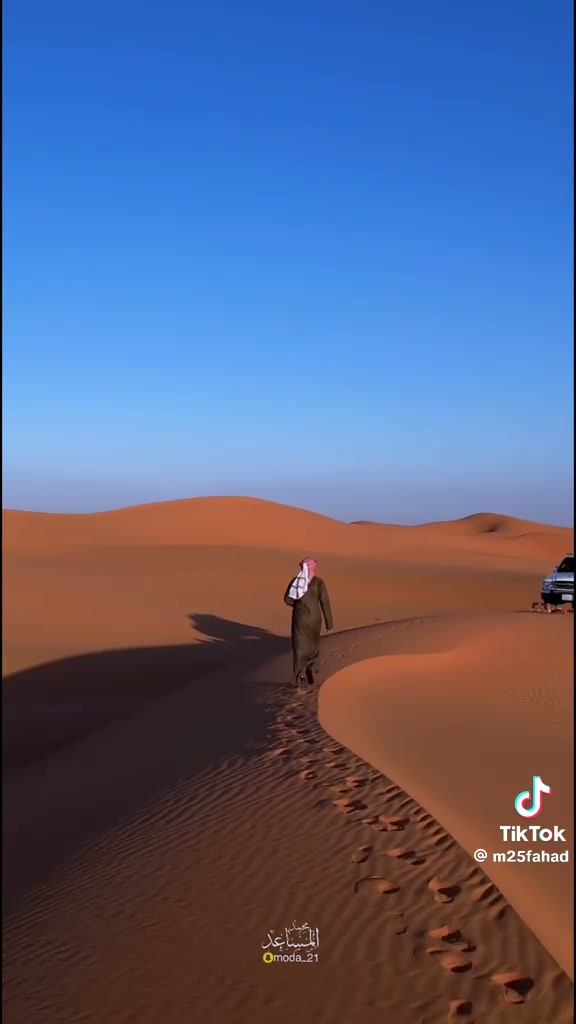human: (284, 557, 332, 689)
human_foot_print: (276, 699, 540, 1023), (354, 875, 400, 895), (386, 847, 425, 865), (352, 845, 372, 863)
